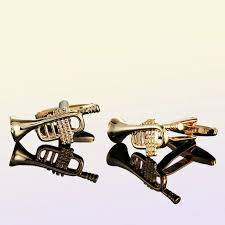Saxophone: (103, 106, 225, 166), (1, 87, 105, 152)
